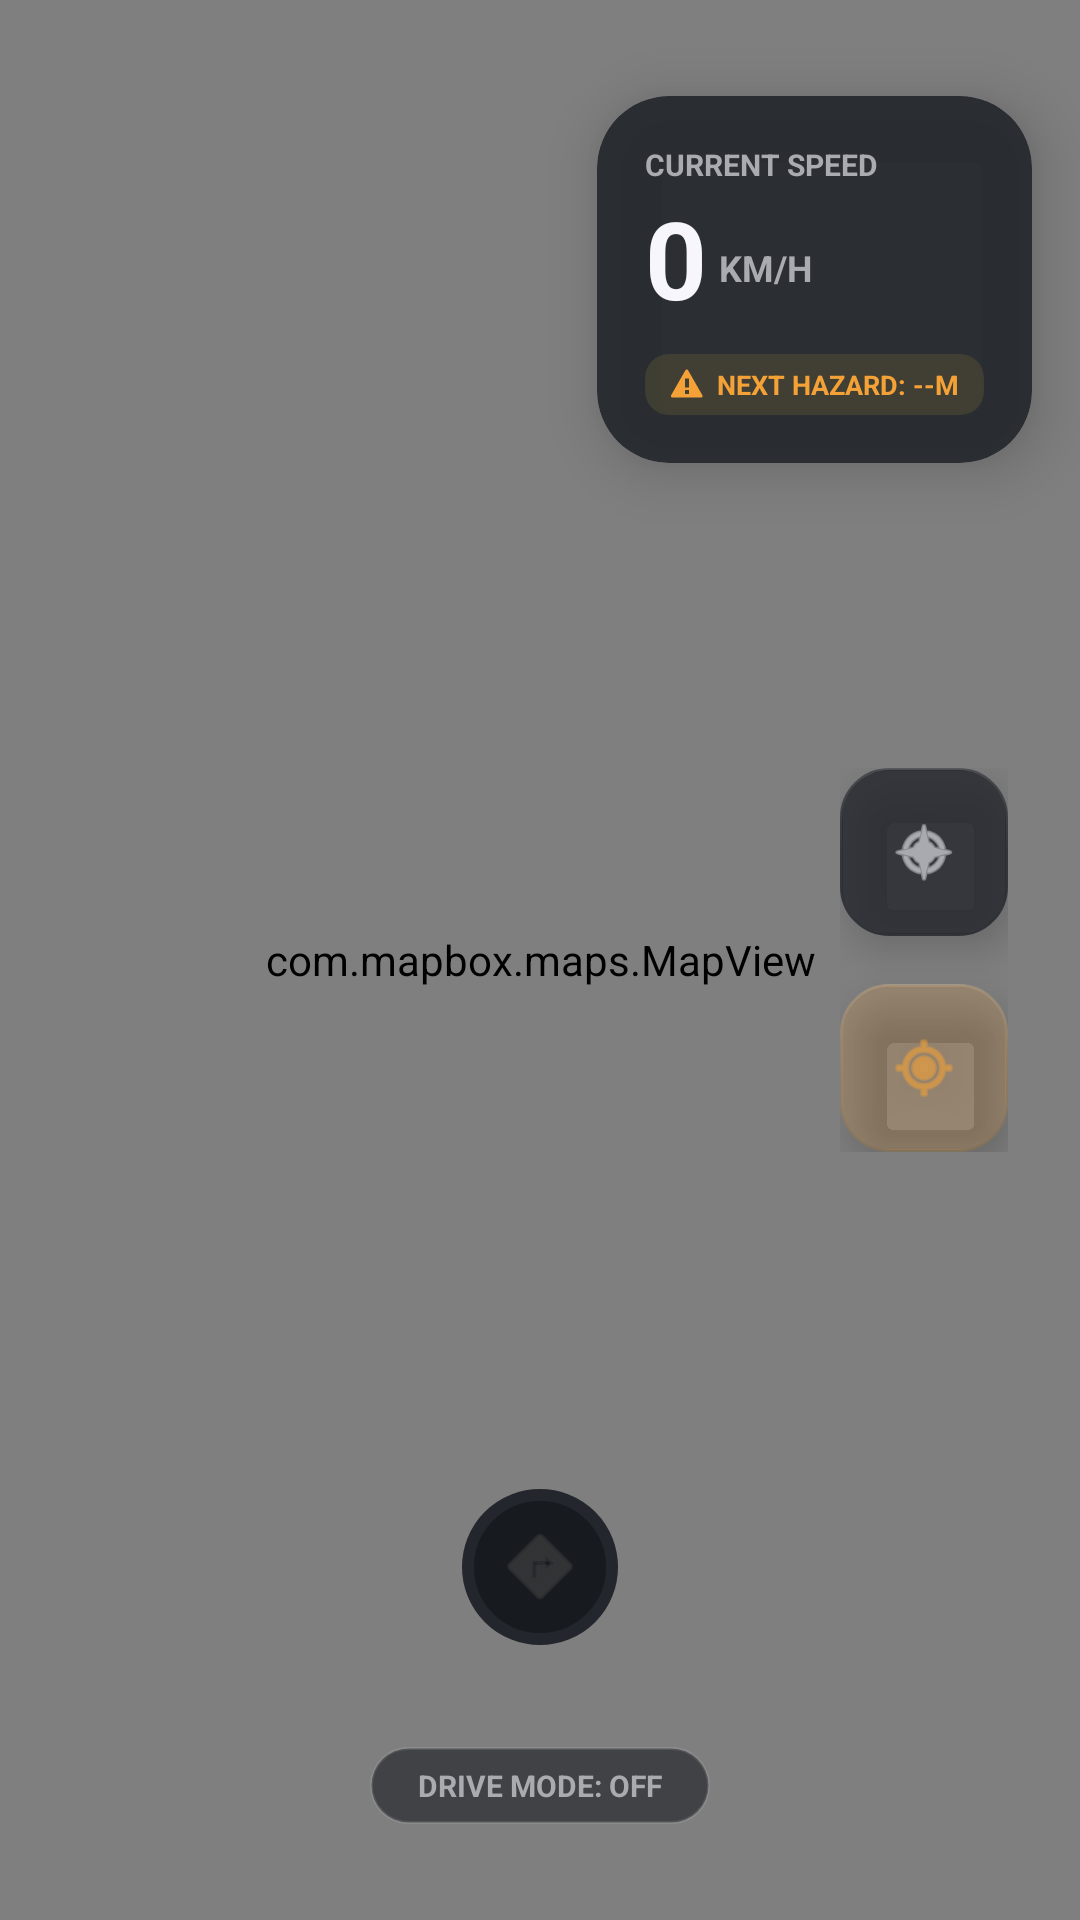

Named icons in this screenshot (1080 x 1920) and their bounding boxes, (x1, y1, x2, y2):
compass: (840, 768, 1008, 936)
directions: (462, 1489, 618, 1645)
mylocation: (840, 984, 1008, 1152)
warning: (671, 369, 703, 398)
